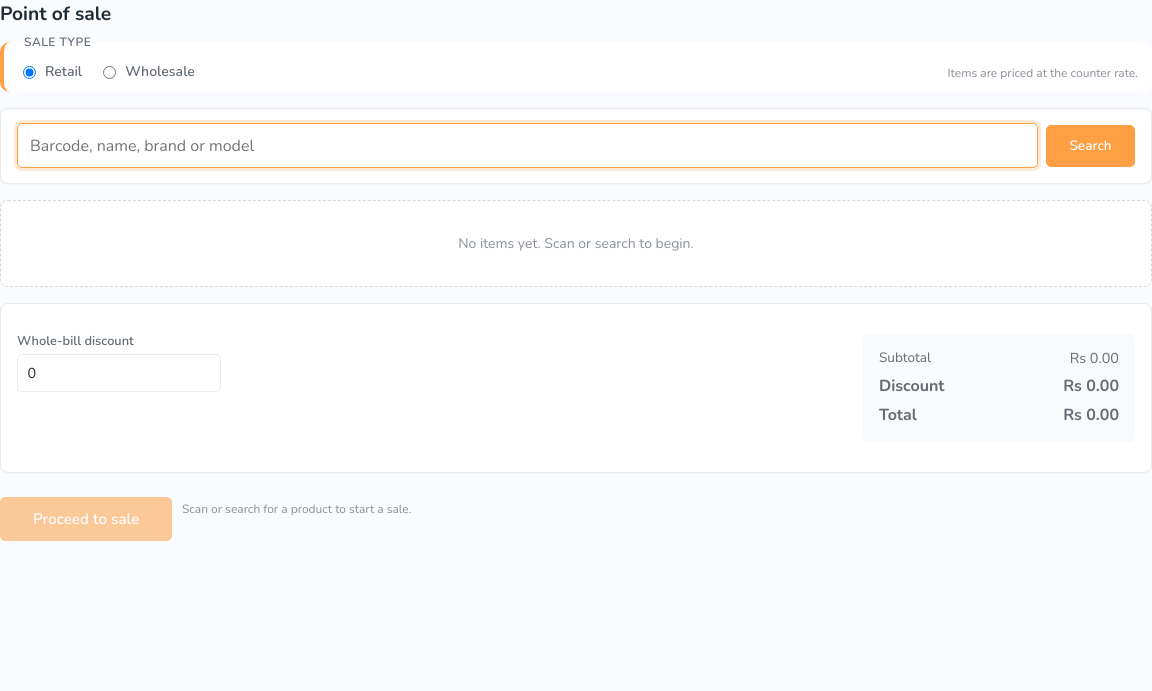
Test: the counter after a non-cash sale › keeps the banner, because there is still something to do with it
Click the radio button labelled "Wholesale".
click(110, 73)  # box [103, 66, 116, 79]
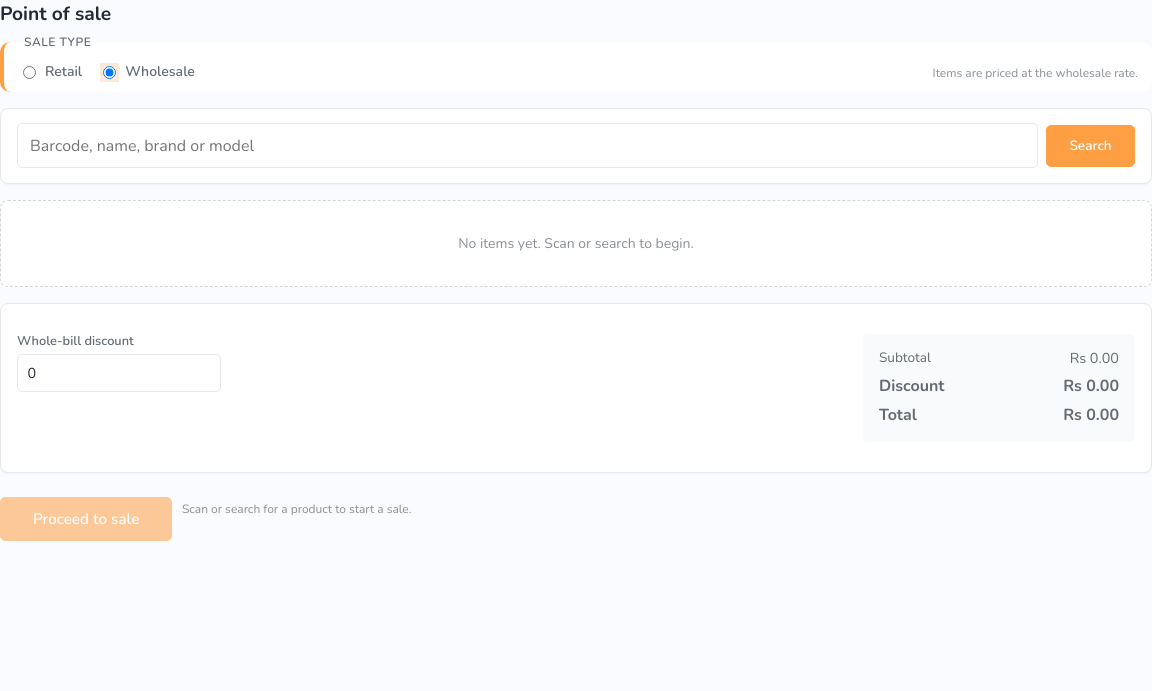
Type "cable" into the field named "scan or search".
click(528, 146); type("cable")  # box [17, 123, 1038, 168]
Click the button "Search".
click(1090, 146)  # box [1046, 125, 1135, 167]
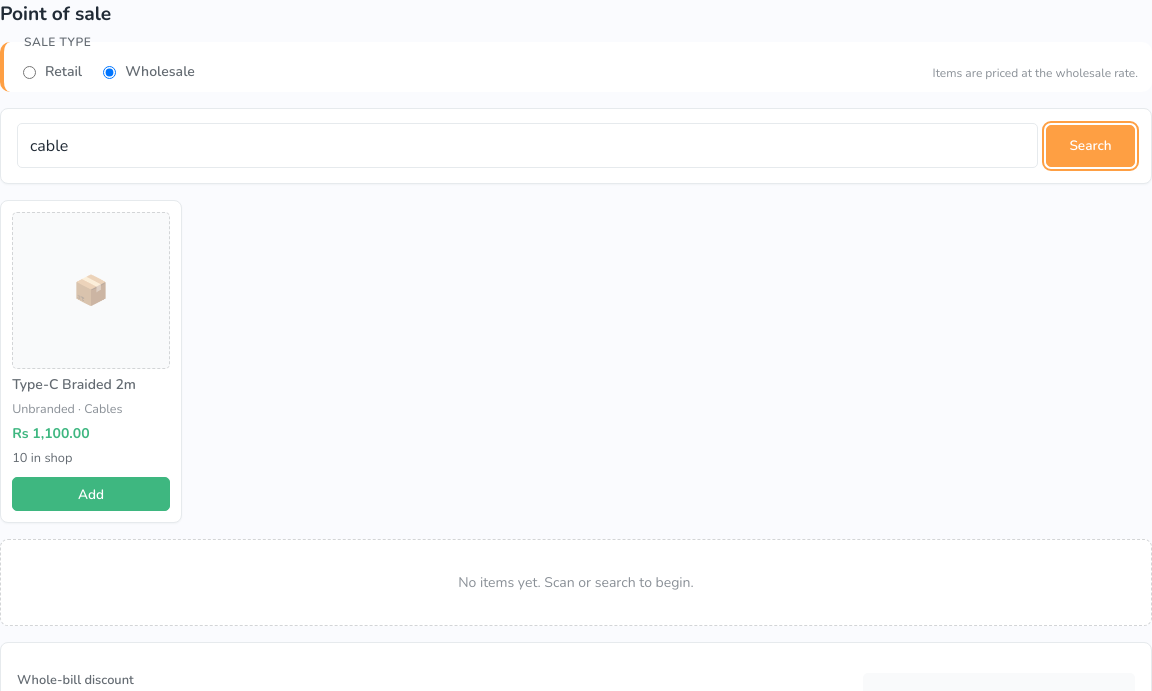
Click the button "Add".
click(91, 494)  # box [12, 477, 170, 511]
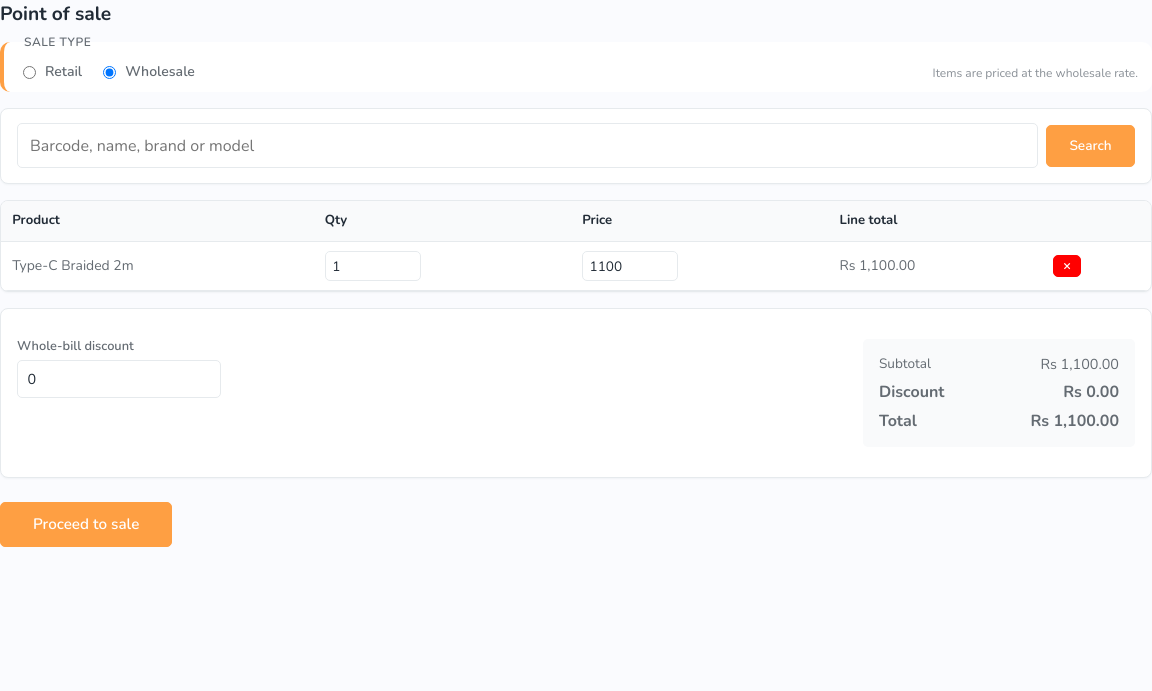
Click the button "Proceed to sale".
click(86, 524)  # box [0, 502, 172, 547]
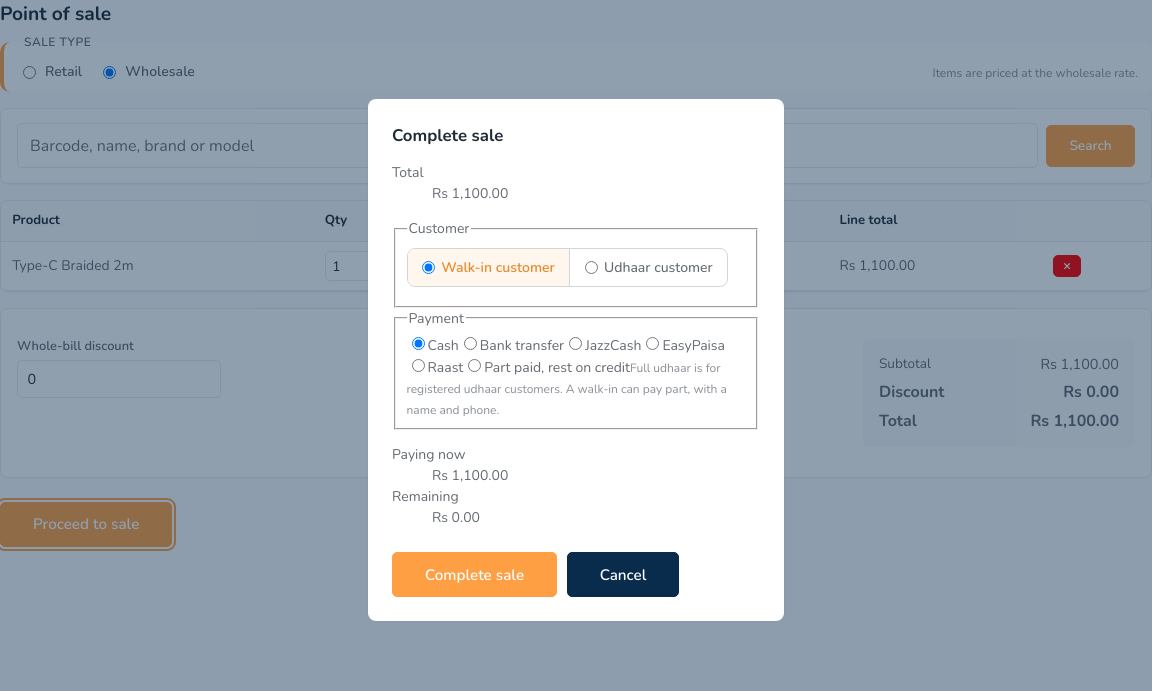
Click the radio button labelled "Bank transfer".
click(470, 343)  # box [464, 337, 477, 350]
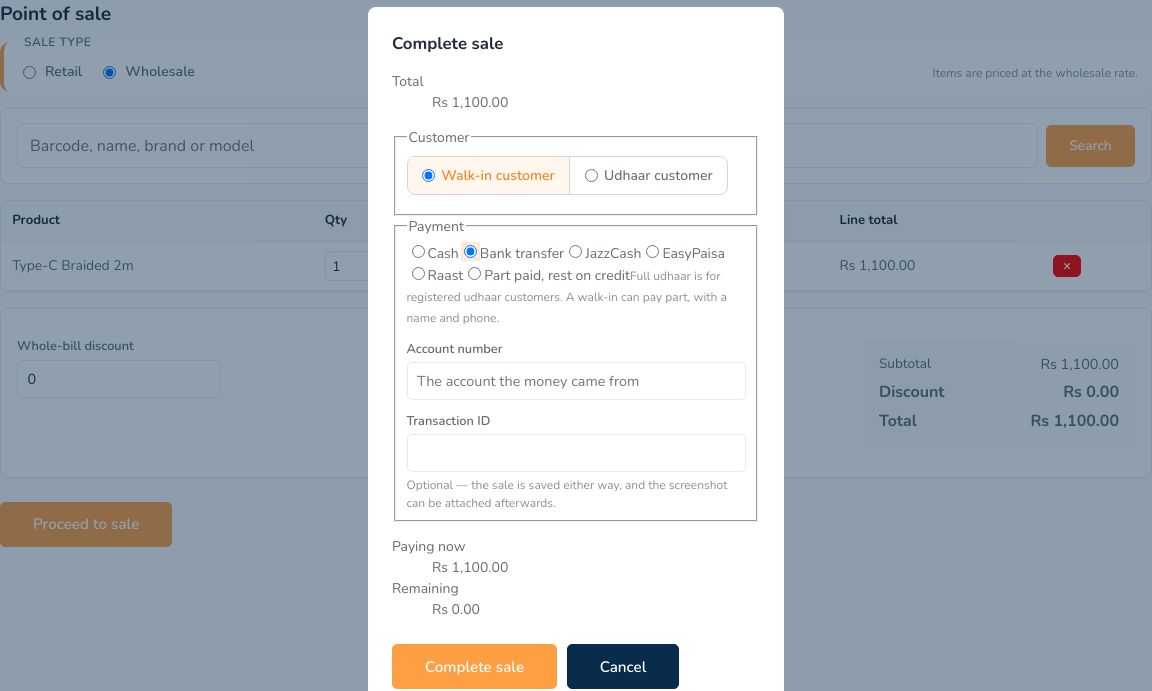
Click the button "Complete sale".
click(474, 666)  # box [392, 644, 557, 689]
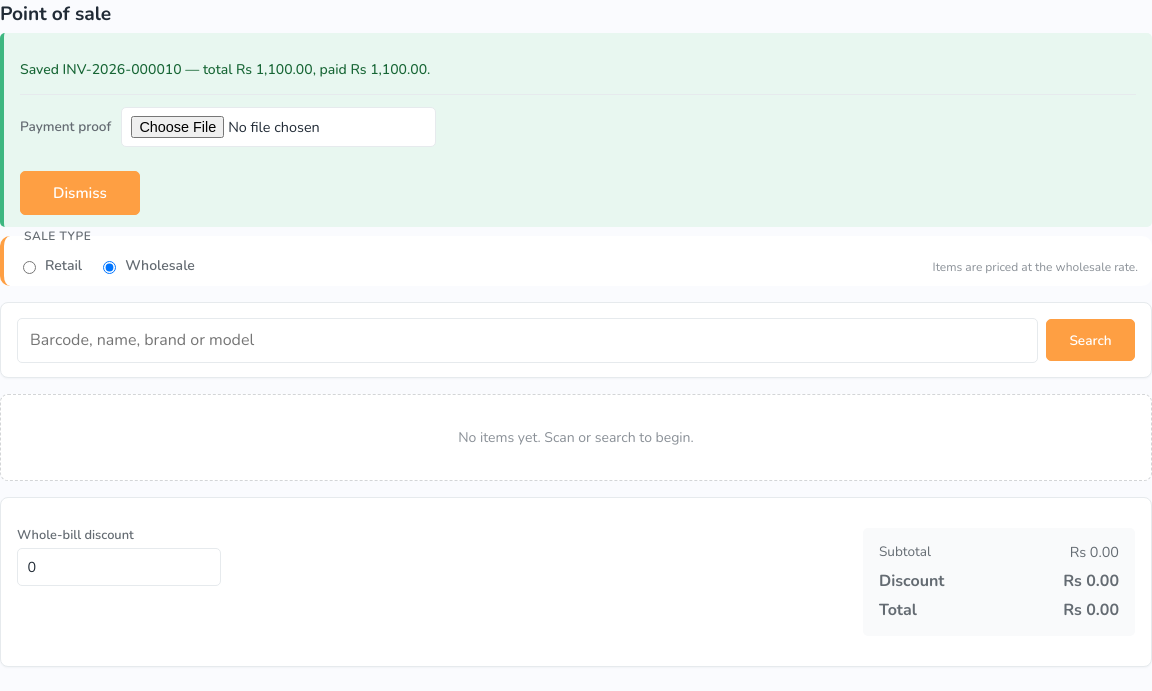
Expected: the text "Saved INV-2026-000010 — total Rs 1,100.00, paid Rs 1,100.00." is shown, [20, 60, 430, 79]
Expected: the file field labelled "Payment proof" is shown, [121, 107, 436, 147]
